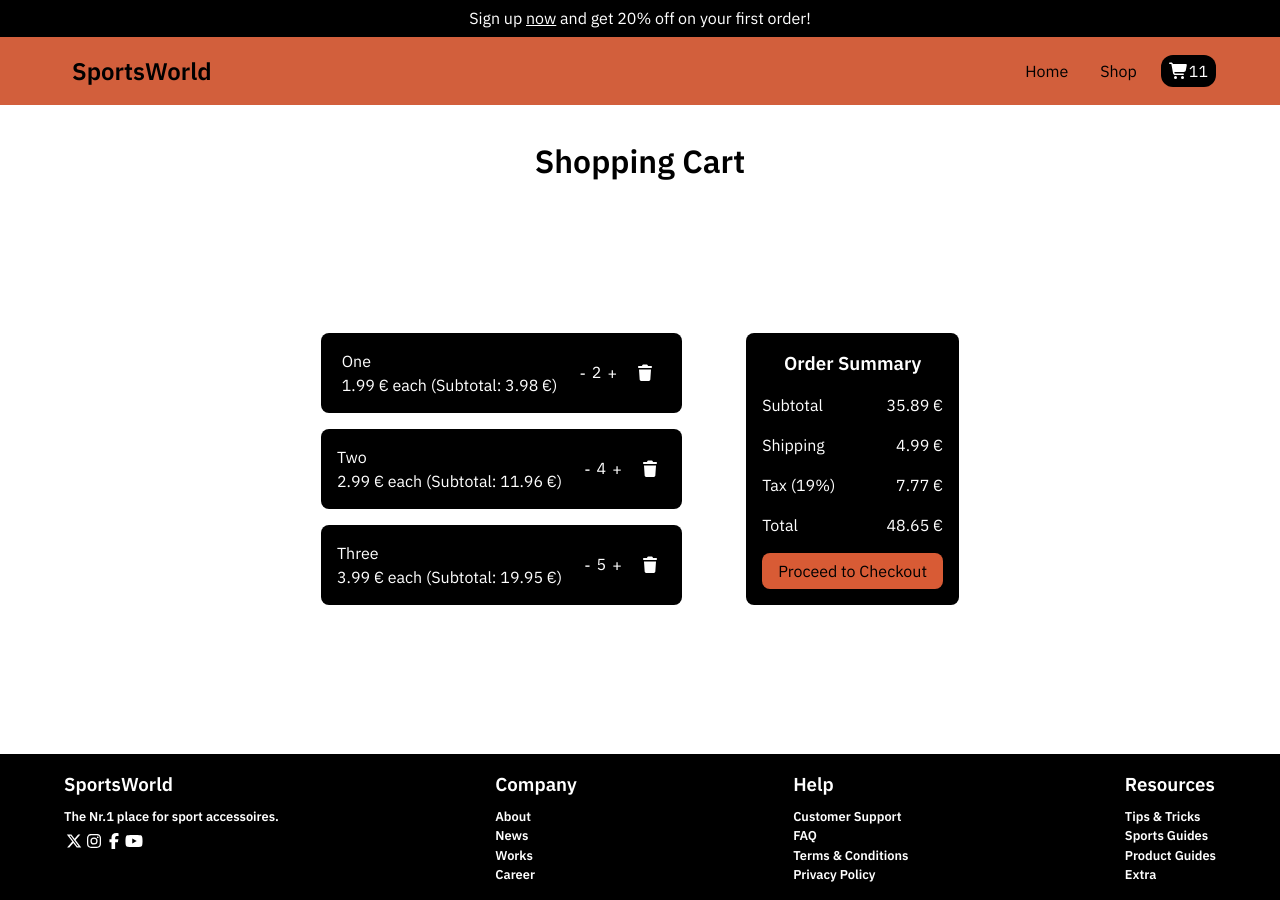
Test case: Cart component › Clicking minus reduces item quantity
Check: the text "2" is shown, box [592,360,601,386]
Click the button "-" in the row of "One". click: (583,373)
box: [573,360,592,386]
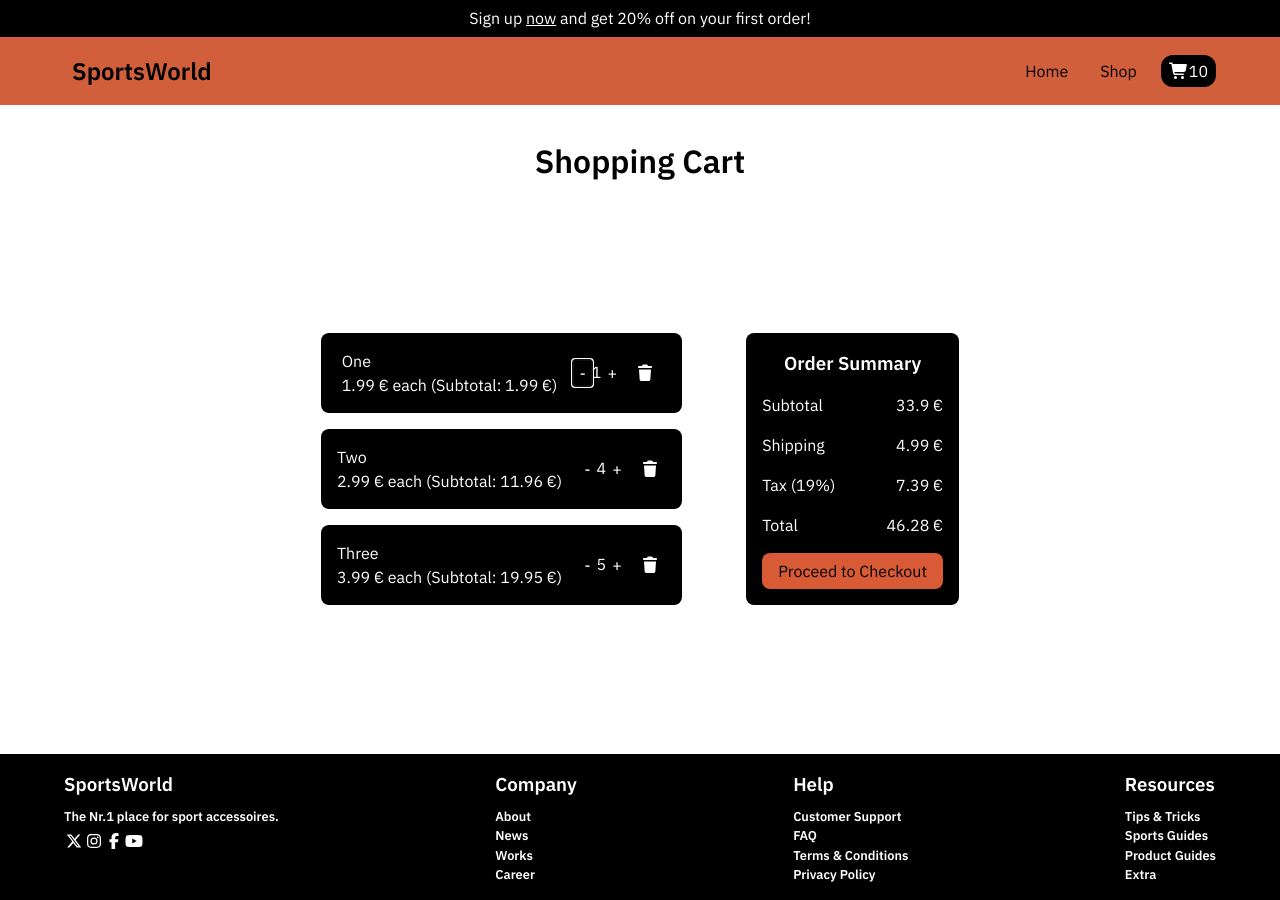
Check: the text "1" is shown, box [592,360,601,386]
